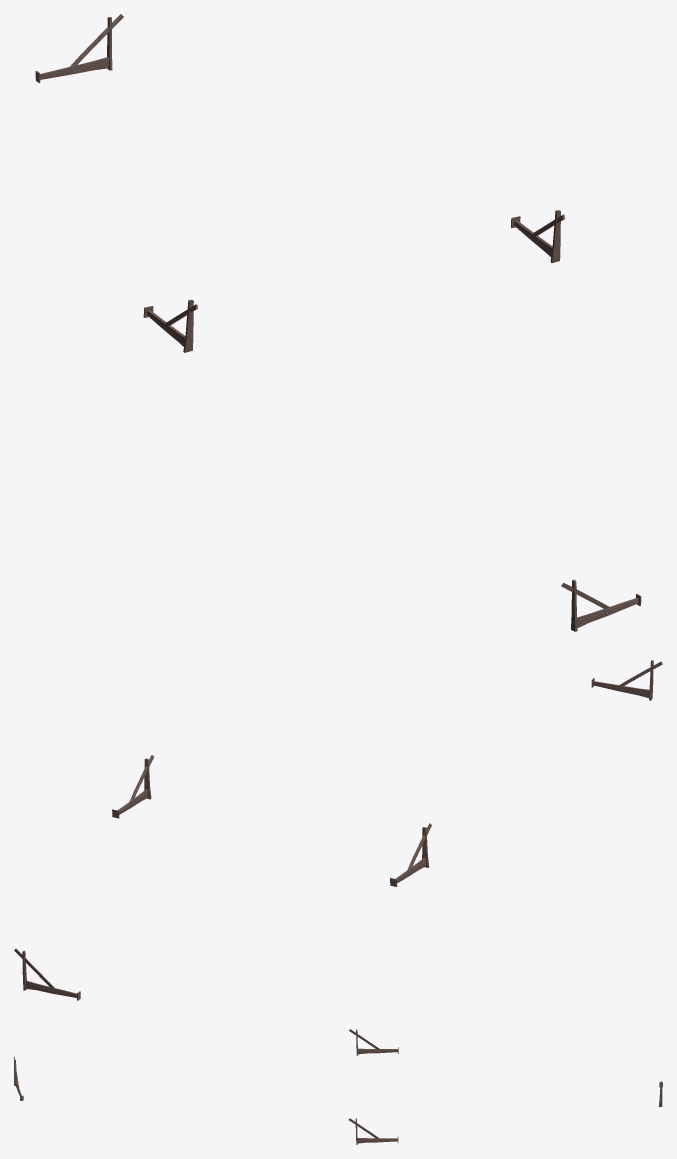
Rendered from SM_Chateaux_06_12.fbx.
The picture shows the model from 3 angles, top to bottom: view 1: azimuth 30°, elevation 25°; view 2: azimuth 150°, elevation 25°; view 3: azimuth 270°, elevation 25°; orthographic projection. The views are drawn at different scales.
Parts seen in each view (by area): view 1: SM_Chateaux_06_12; view 2: SM_Chateaux_06_12; view 3: SM_Chateaux_06_12.
Boxes of the visible parts, x1,y1,x2,y2 form: SM_Chateaux_06_12: [35, 14, 641, 631]; SM_Chateaux_06_12: [14, 660, 662, 1000]; SM_Chateaux_06_12: [14, 1029, 662, 1144].
Bounding box in the file's own units: 2612 × 646 × 7791.
